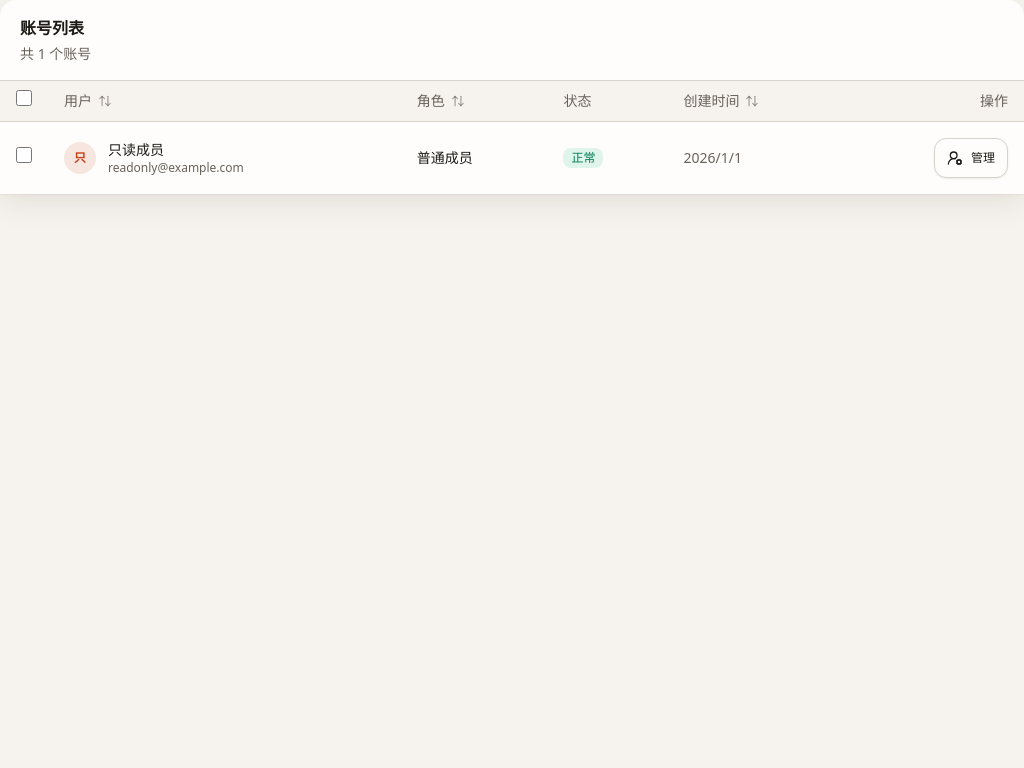
Test: UserList › shows only roles the server marked assignable inside the management dialog
The width and height of the screenshot is (1024, 768).
Click the button with aria-label "管理 readonly@example.com".
click(971, 158)  # box [934, 138, 1008, 178]
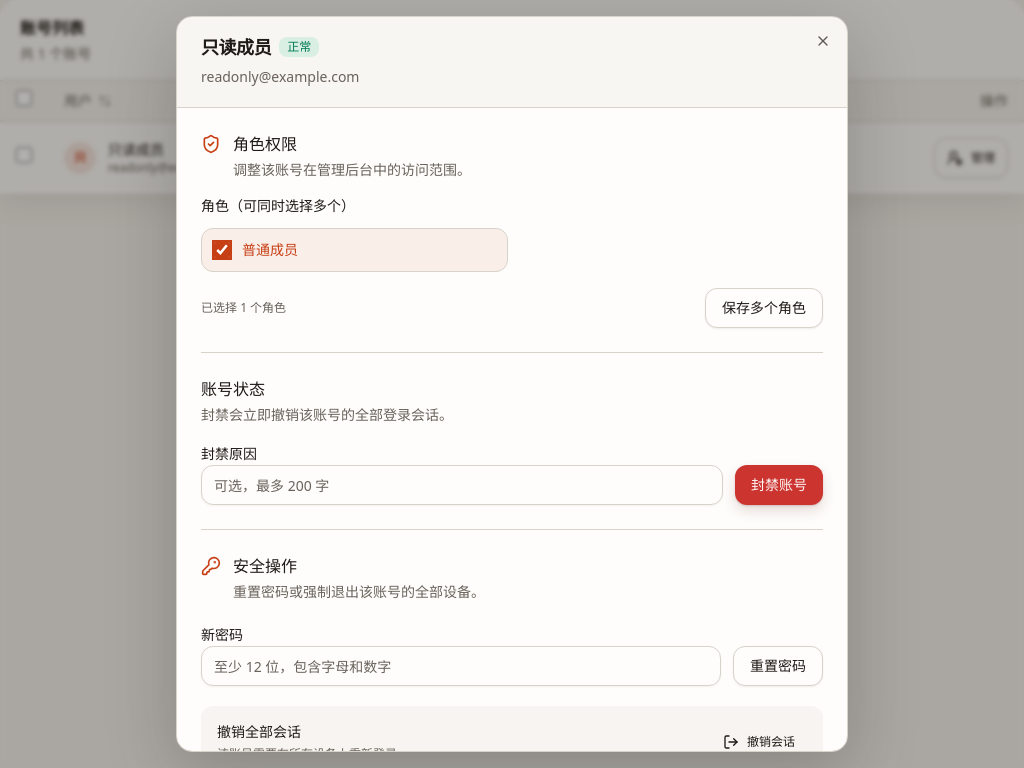
Check: the dialog is shown
Check: the checkbox labelled "普通成员" is checked, box [214, 242, 230, 258]
